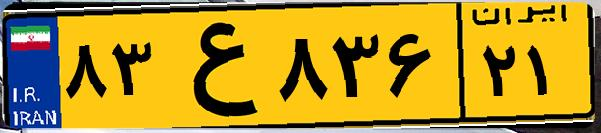1: (525, 38, 570, 115)
2: (475, 38, 525, 113)
3: (330, 28, 385, 110), (110, 28, 158, 98)
6: (385, 28, 445, 110)
8: (270, 28, 330, 110), (57, 26, 110, 100)
ع: (158, 12, 270, 120)
